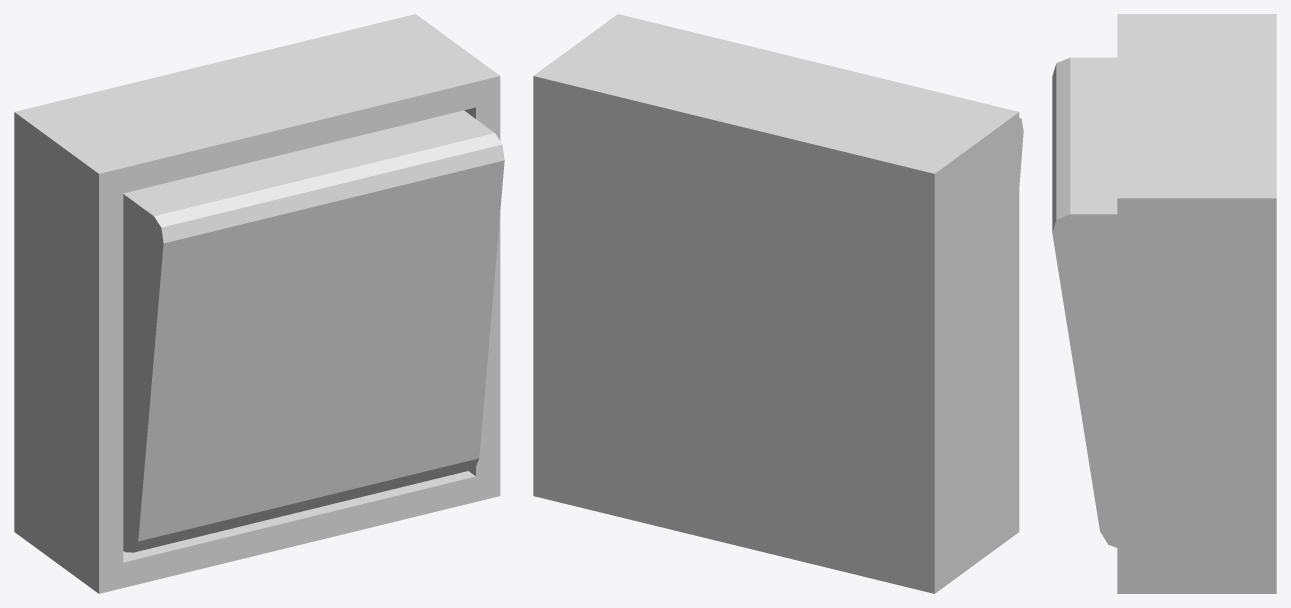
The model's file is switchlight.fbx.
3 renders of one model, left to right at view 1: azimuth 30°, elevation 25°; view 2: azimuth 150°, elevation 25°; view 3: azimuth 270°, elevation 25°, orthographic. The views are drawn at different scales.
Parts seen in each view (by area): view 1: SwitchLight; view 2: SwitchLight; view 3: SwitchLight.
Boxes of the visible parts, left/top/right/bottom form: SwitchLight: left=14, top=14, right=504, bottom=593; SwitchLight: left=533, top=14, right=1023, bottom=593; SwitchLight: left=1052, top=14, right=1276, bottom=593.
Size of the model in its own units: 19.61 by 19.61 by 10.08.
